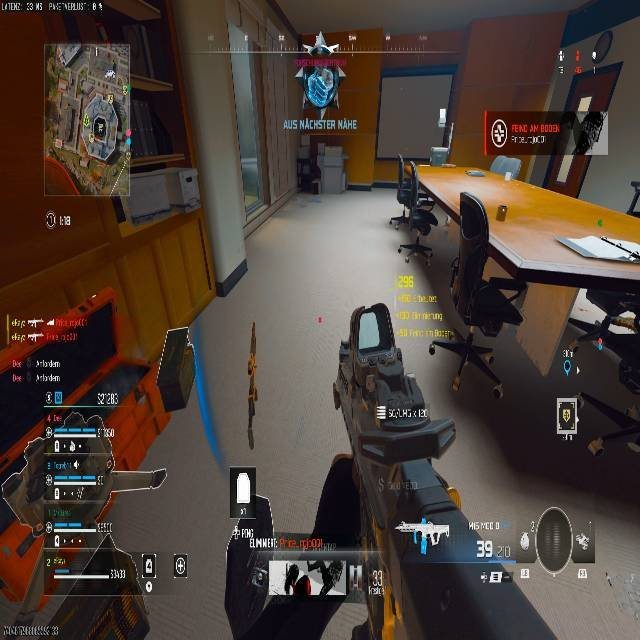head: (396, 166, 419, 201)
player: (393, 174, 526, 400), (390, 166, 441, 256), (293, 145, 321, 197)
